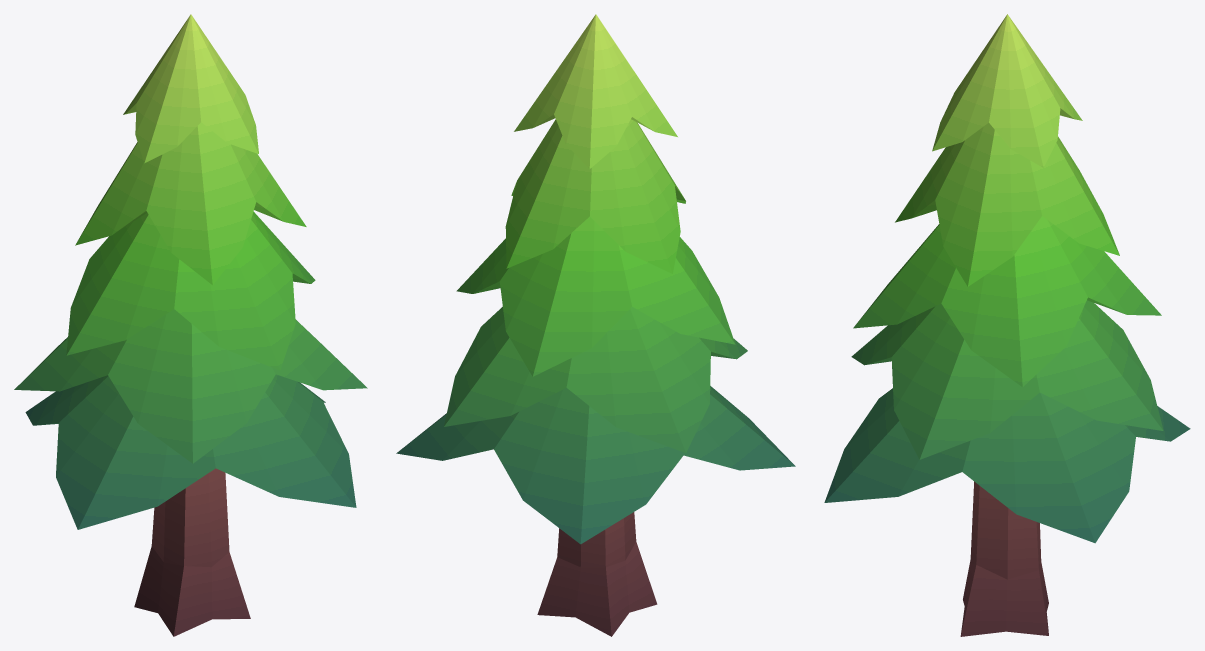
Rendered from Green_E.glb.
The picture shows the model from 3 angles, left to right: view 1: azimuth 30°, elevation 25°; view 2: azimuth 150°, elevation 25°; view 3: azimuth 270°, elevation 25°; orthographic projection.
Visible parts, largest first — view 1: Green_Leaves1_E, Green_Leaves3_E, Green_Leaves2_E, Green_Leaves4_E, Green_Trunk_E, Green_Leaves5_E; view 2: Green_Leaves1_E, Green_Leaves2_E, Green_Leaves3_E, Green_Leaves4_E, Green_Leaves5_E, Green_Trunk_E; view 3: Green_Leaves1_E, Green_Leaves2_E, Green_Leaves3_E, Green_Leaves4_E, Green_Leaves5_E, Green_Trunk_E.
Boxes of the visible parts, <box> form: Green_Leaves1_E: <box>25,374,356,529</box>; Green_Leaves3_E: <box>66,211,315,370</box>; Green_Leaves2_E: <box>14,309,367,463</box>; Green_Leaves4_E: <box>75,122,306,285</box>; Green_Trunk_E: <box>134,468,250,636</box>; Green_Leaves5_E: <box>123,14,258,163</box>; Green_Leaves1_E: <box>396,386,795,544</box>; Green_Leaves2_E: <box>444,306,747,452</box>; Green_Leaves3_E: <box>456,216,735,376</box>; Green_Leaves4_E: <box>505,119,685,273</box>; Green_Leaves5_E: <box>514,14,677,169</box>; Green_Trunk_E: <box>537,512,657,636</box>; Green_Leaves1_E: <box>824,388,1190,543</box>; Green_Leaves2_E: <box>851,300,1163,459</box>; Green_Leaves3_E: <box>853,216,1161,387</box>; Green_Leaves4_E: <box>895,123,1119,286</box>; Green_Leaves5_E: <box>932,14,1082,167</box>; Green_Trunk_E: <box>960,481,1048,636</box>.
Size of the model in its own units: 1.91 by 3.5 by 1.91.
1 material, 1 textured.
